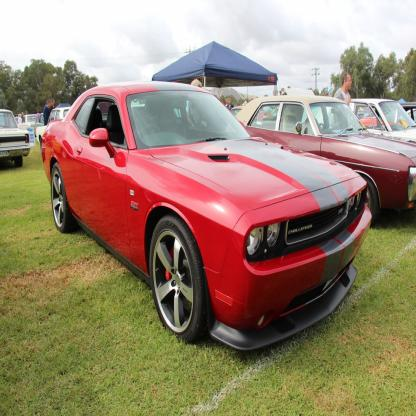Car: (41, 84, 374, 353), (227, 98, 416, 227), (321, 99, 416, 146), (36, 108, 73, 158), (1, 111, 32, 168)
